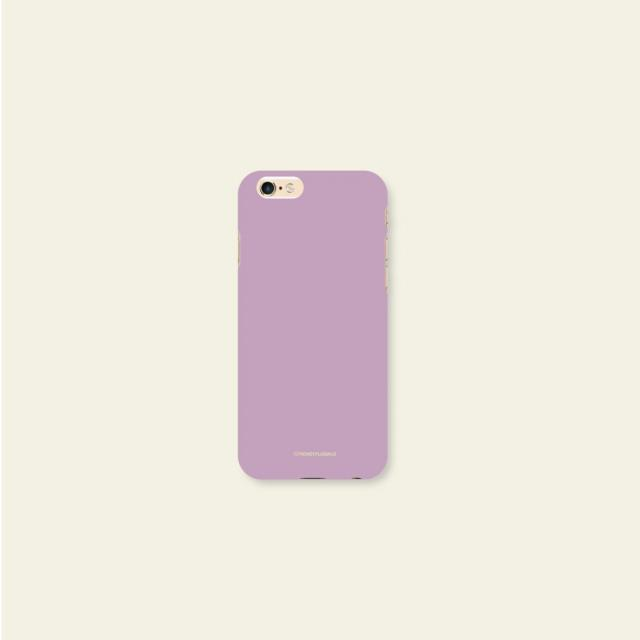phone: (237, 170, 391, 480)
